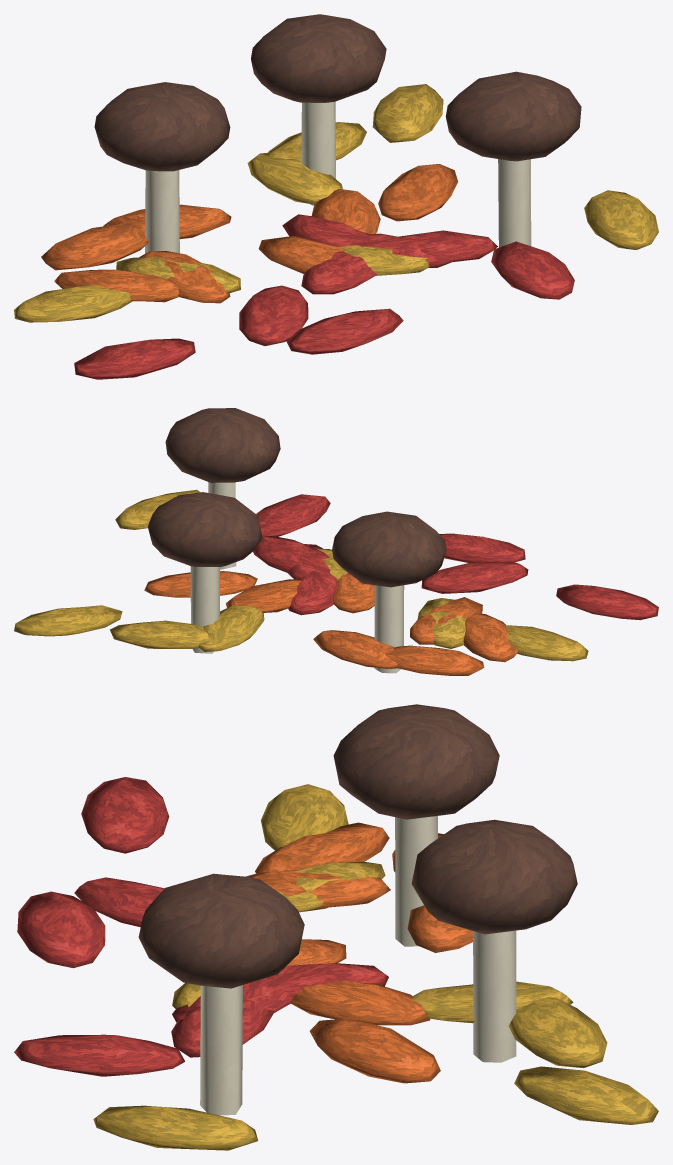
The model's file is flowers.glb.
The picture shows the model from 3 angles, top to bottom: view 1: azimuth 30°, elevation 25°; view 2: azimuth 150°, elevation 25°; view 3: azimuth 270°, elevation 25°; orthographic projection. The views are drawn at different scales.
Visible parts, largest first — view 1: flowers; view 2: flowers; view 3: flowers.
Part boxes in pixels (x1,y1,x2,y2): flowers: [14, 14, 658, 379]; flowers: [14, 408, 658, 675]; flowers: [14, 704, 658, 1150].
Bounding box in the file's own units: 0.8974 × 0.25 × 0.6615.
Materials: 1 (1 with a texture image).
